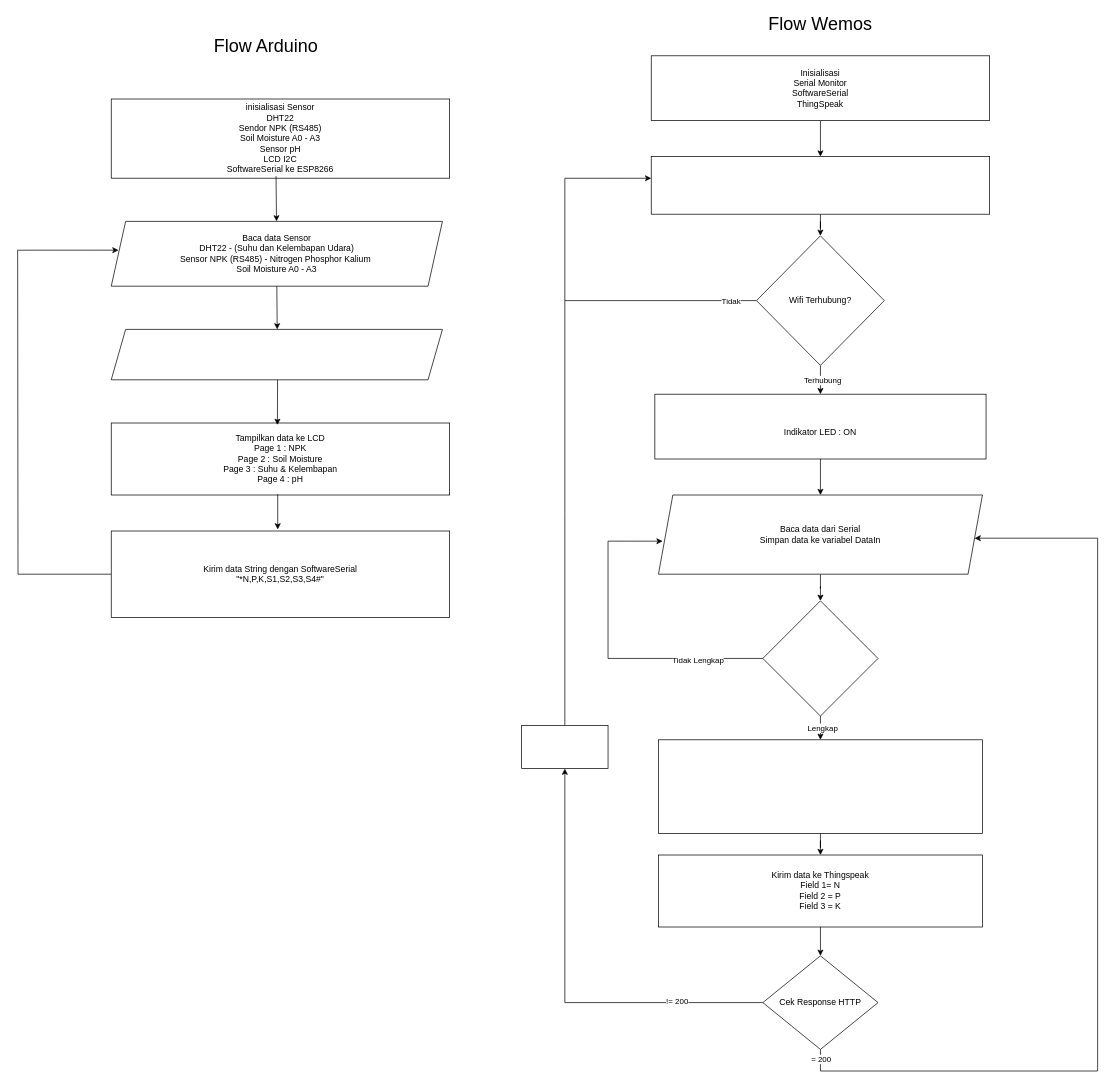
Image size: 1116x1089. Some labels were removed from this diagram. The shapes that lost their labels are listed below. From the top down, each one's centre as x and y in pixels, then its label:
At (820,185): "Inisialisasi Koneksi WiFi Indikator LED : OFF Hubungkan ke WiFi".
At (276,354): "Baca Sensor pH Tanah DMS dan hitung pH".
At (820,658): "Data lengkap? (* ... #)".
At (564,747): "Serial Print Error Code HTTP Response".
At (820,786): "Parsing Data dt[0] : Nitrogen dt[1] : Phospor dt[2] : Kalium".
